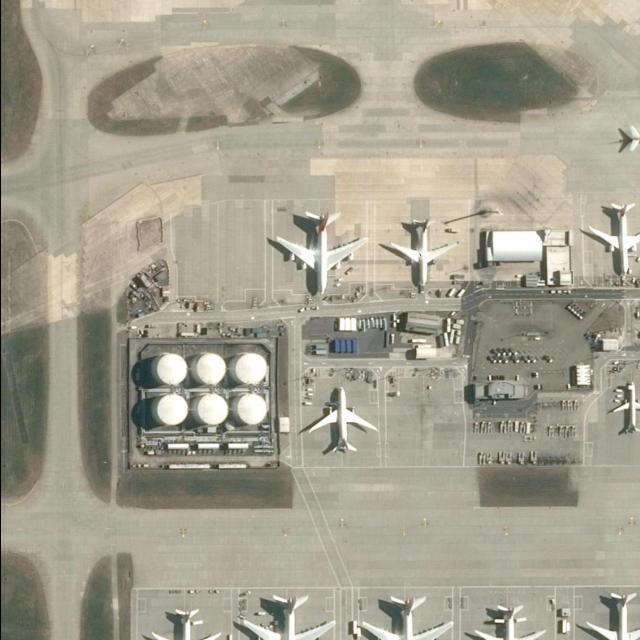Aircraft: (269, 207, 367, 301), (301, 384, 378, 458), (383, 220, 454, 290), (587, 199, 640, 283), (239, 593, 332, 640), (361, 591, 449, 640), (579, 593, 640, 640), (469, 601, 542, 640), (146, 608, 218, 640), (610, 381, 640, 435)
